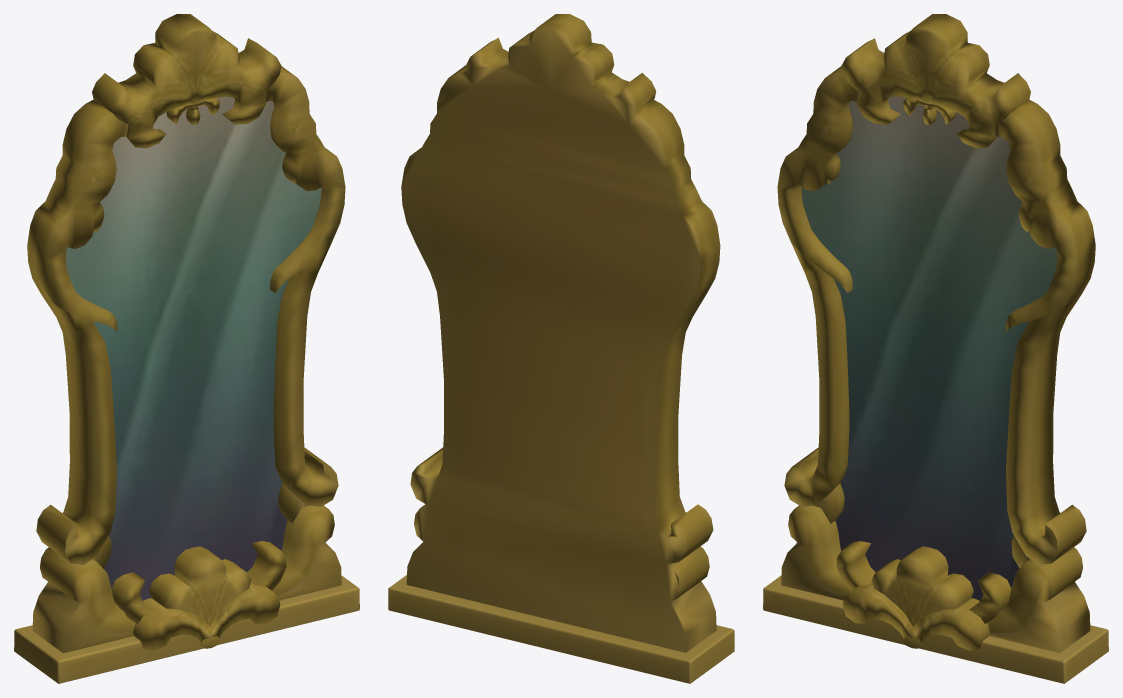
The picture shows the model from 3 angles, left to right: view 1: azimuth 30°, elevation 25°; view 2: azimuth 150°, elevation 25°; view 3: azimuth 330°, elevation 25°; orthographic projection.
Size of the model in its own units: 9.02 by 17.33 by 2.41.
Materials: 2 (2 with a texture image).
